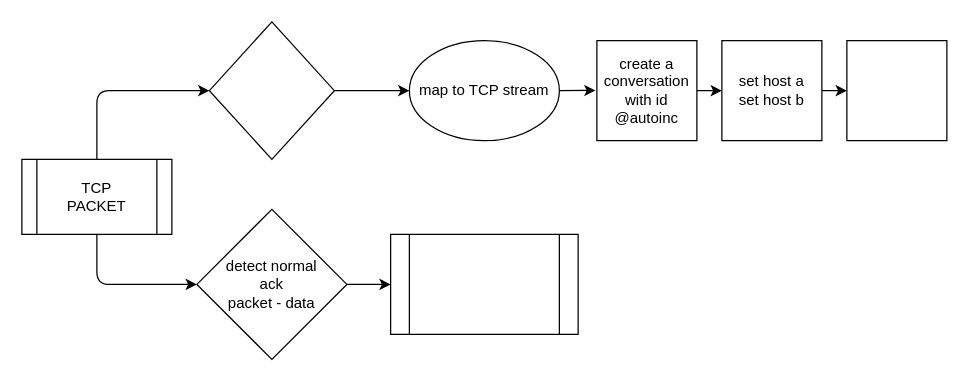
Some shapes in this 969 by 381 pixel diagram are drawn without their labels. The shapes that lost their labels are listed below. From the top down, each one's centre as x and y in pixels, then its label:
the point at 271,90: Detect handshake pattern
the point at 896,90: insert first three packet to the p_list
the point at 483,283: find stream accsess corspongindg conversation and insert to p_l
